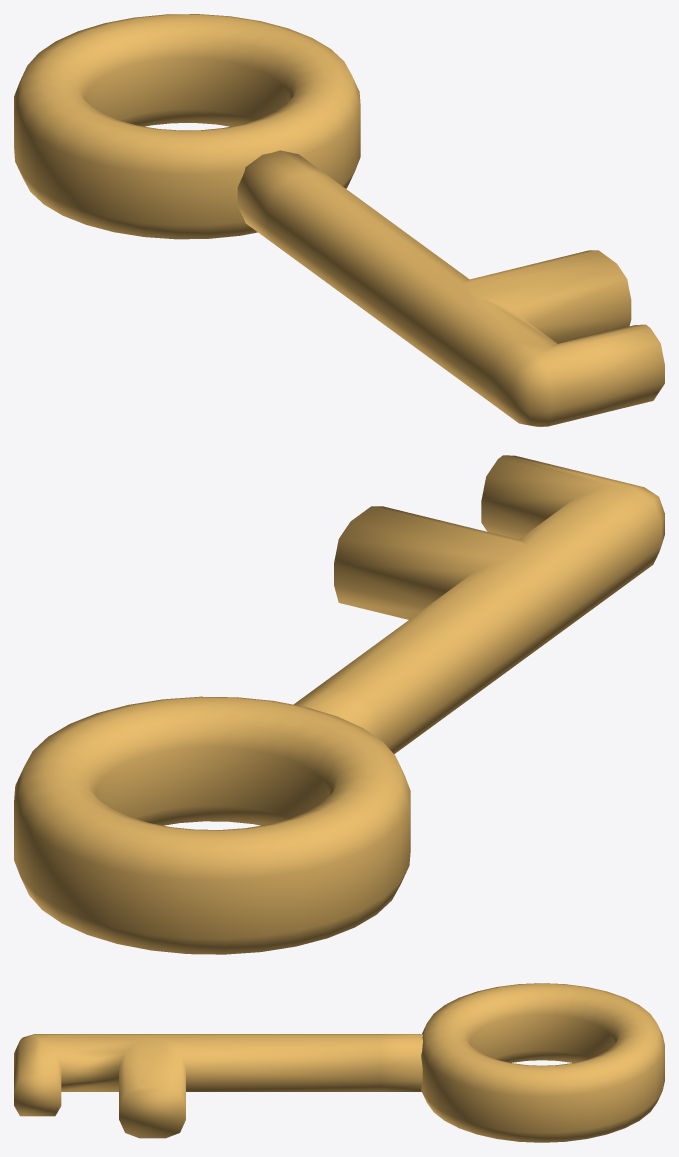
File: LLave.glb
3 views of the same model, one above another, from view 1: azimuth 30°, elevation 25°; view 2: azimuth 150°, elevation 25°; view 3: azimuth 270°, elevation 25° (orthographic). The views are drawn at different scales.
Visible parts, largest first — view 1: Llave; view 2: Llave; view 3: Llave.
Boxes of the visible parts, x1=… form: Llave: x1=14, y1=14, x2=664, y2=426; Llave: x1=14, y1=455, x2=664, y2=954; Llave: x1=14, y1=983, x2=664, y2=1142.
Bounding box in the file's own units: 0.1579 × 0.0501 × 0.4181.
